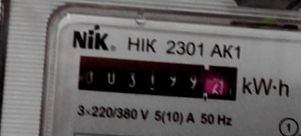0: (83, 65, 97, 85), (106, 66, 118, 85)
1: (148, 66, 158, 85)
3: (127, 69, 137, 88)
6: (211, 81, 221, 97)
9: (188, 72, 199, 91), (168, 69, 178, 87)
screen: (72, 46, 246, 112)
